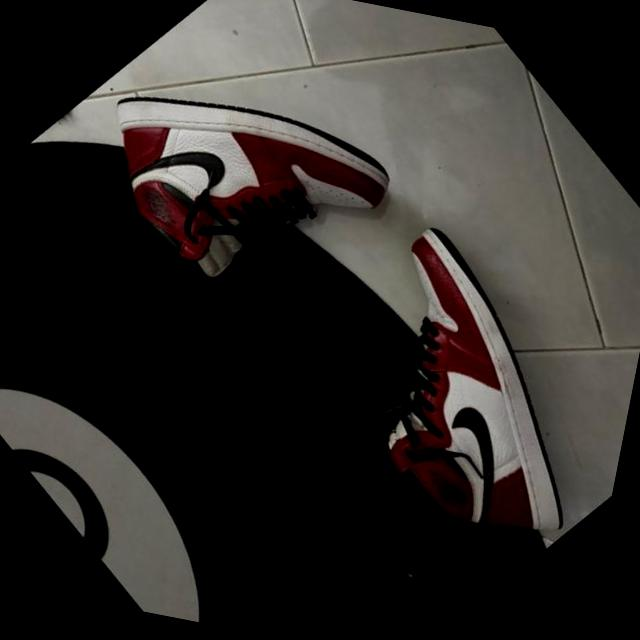nike_original_jordan: (239, 190, 640, 610), (45, 0, 437, 359)
